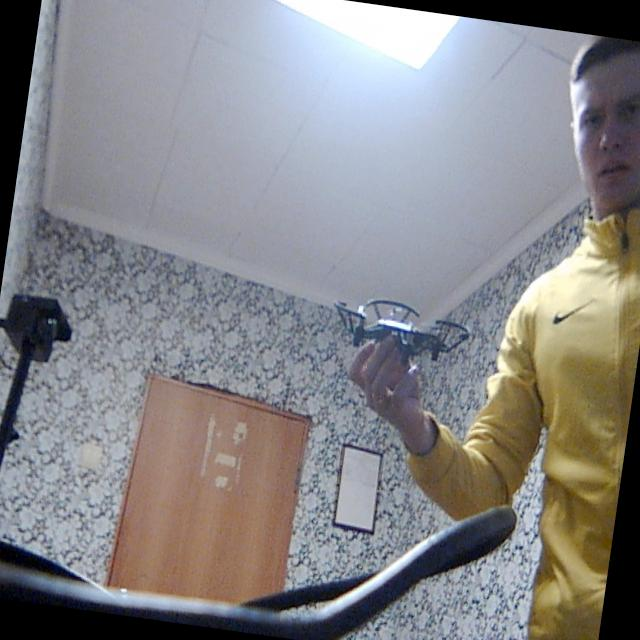drone: (327, 282, 482, 382)
